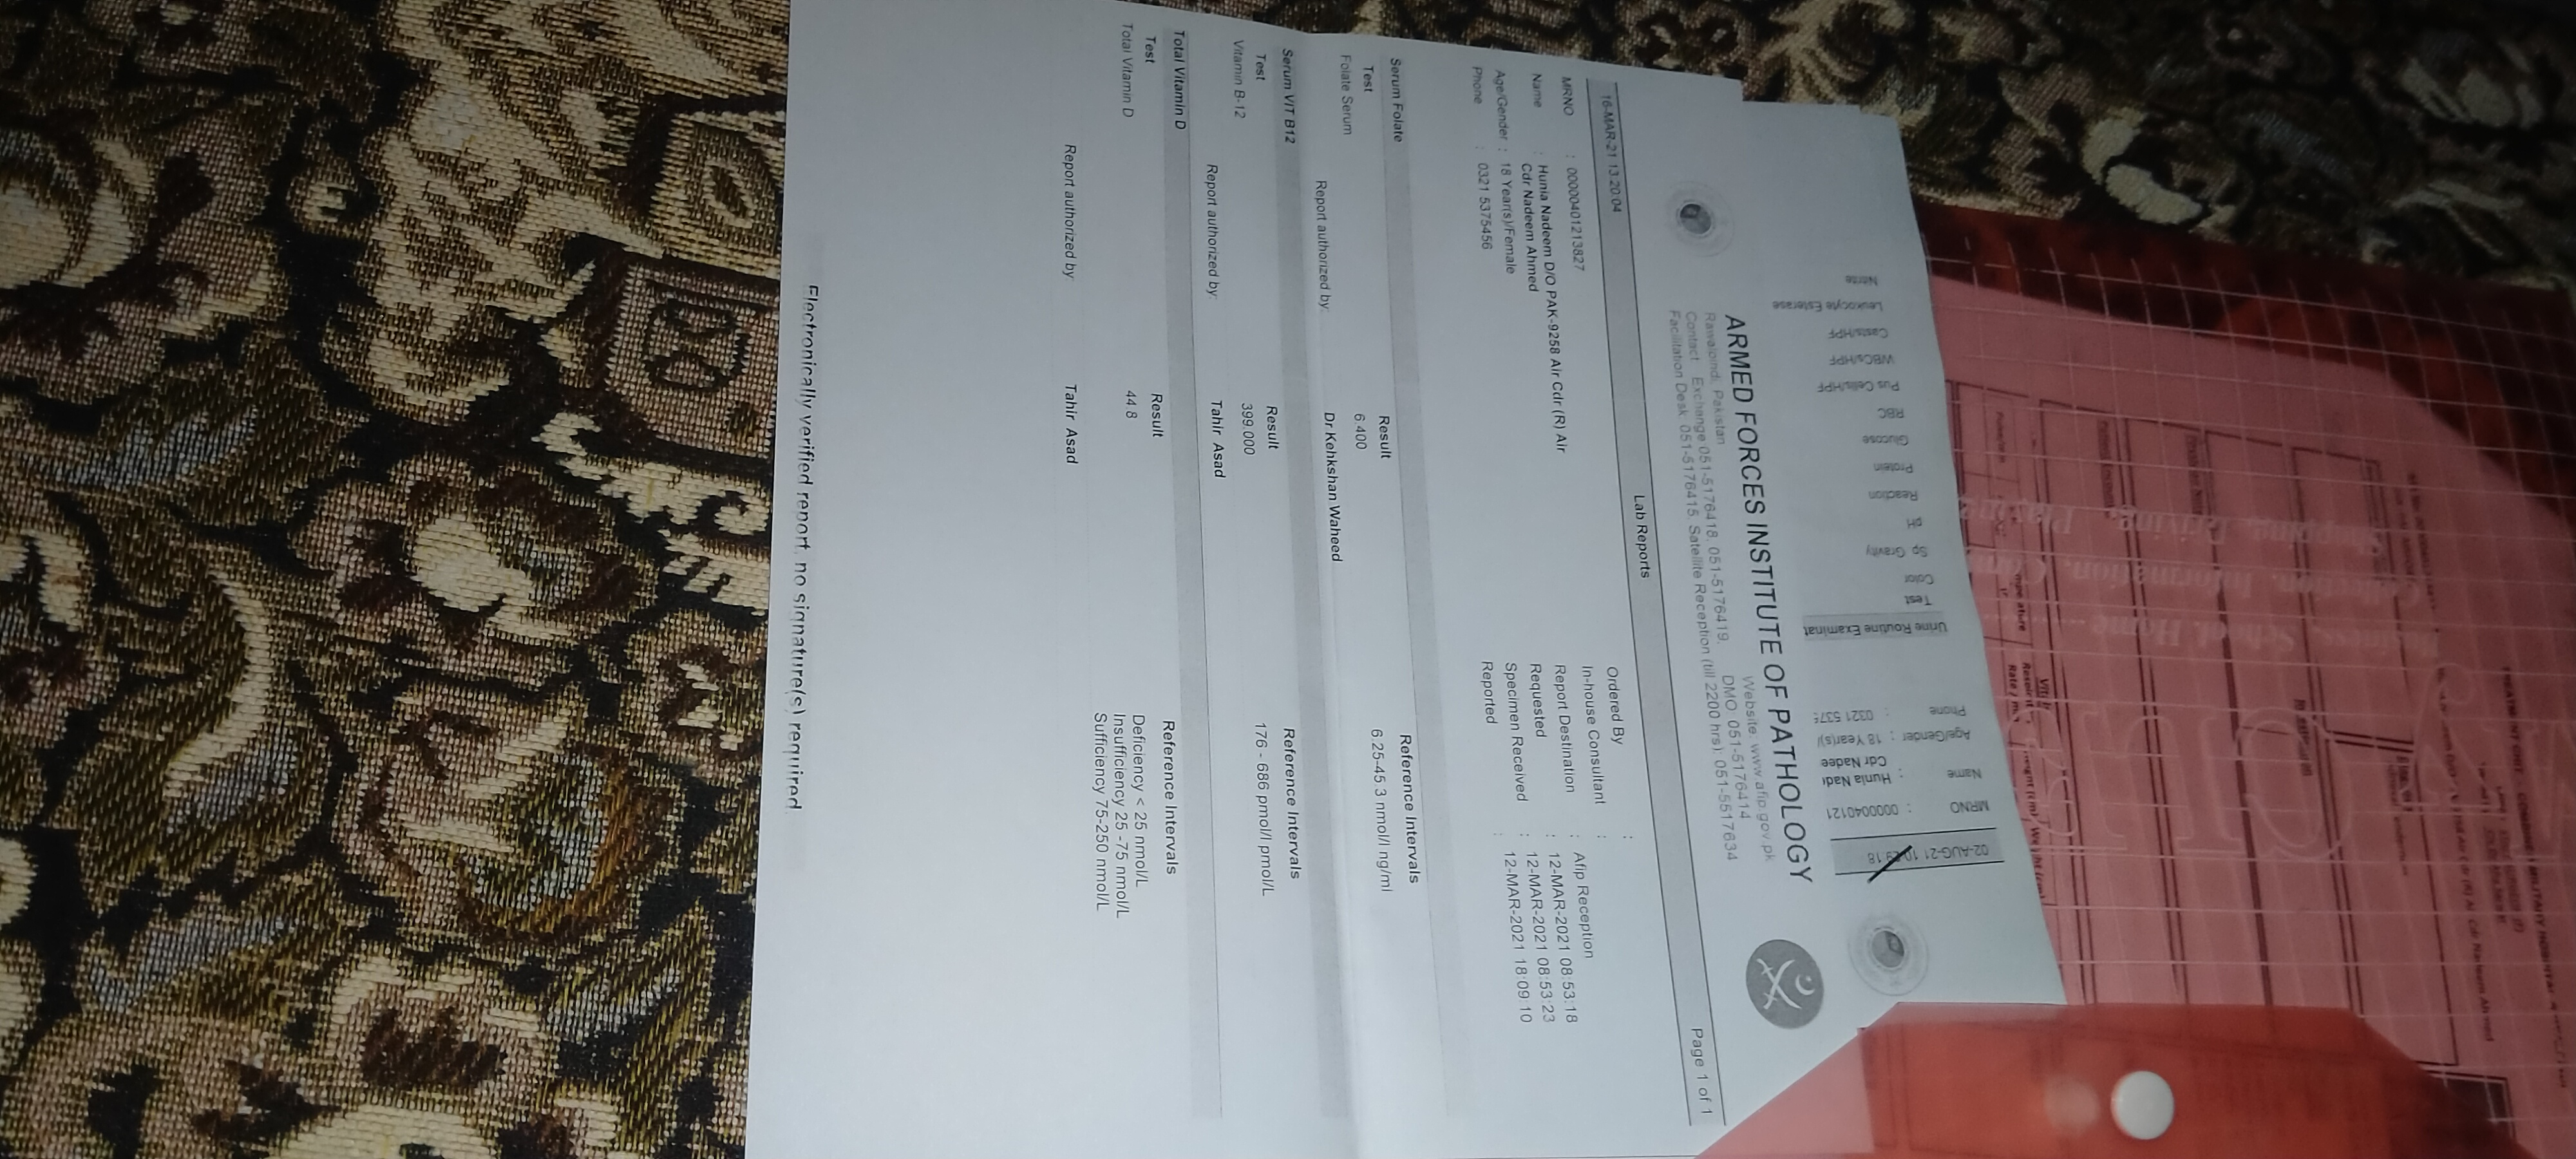report: (1053, 0, 1470, 1159)
